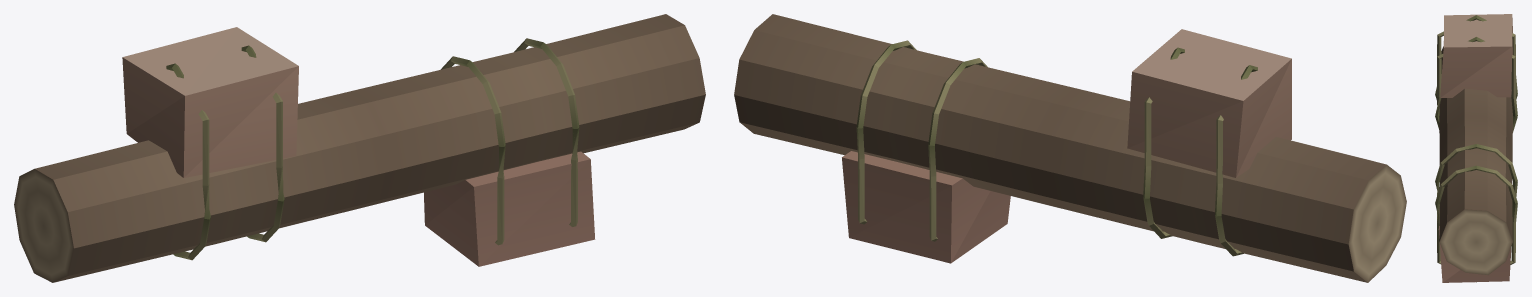
Rendered from rolling_stone_a.glb.
3 views of the same model, side by side, from view 1: azimuth 30°, elevation 25°; view 2: azimuth 150°, elevation 25°; view 3: azimuth 270°, elevation 25° (orthographic). The views are drawn at different scales.
Visible parts, largest first — view 1: rolling_stone_a; view 2: rolling_stone_a; view 3: rolling_stone_a.
Boxes of the visible parts, x1,y1,x2,y2 form: rolling_stone_a: (14,14,705,282); rolling_stone_a: (734,14,1406,282); rolling_stone_a: (1435,14,1517,282).
Size of the model in its own units: 2.4 by 0.95 by 0.4499.
